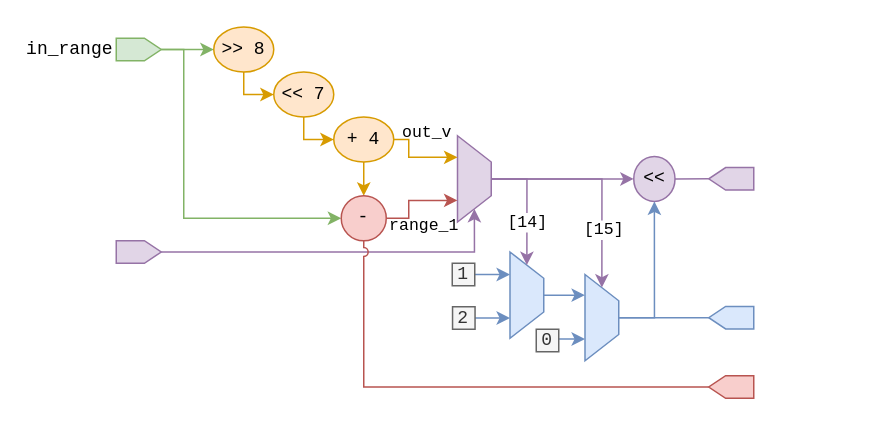
Image size: 879x425. Some labels were removed from this diagram. The centre of each missing label's shape, as x and y in pixels:
out_d: pixel 730 317
pre_low: pixel 730 386
range_CDF: pixel 730 178
symbol: pixel 138 251
